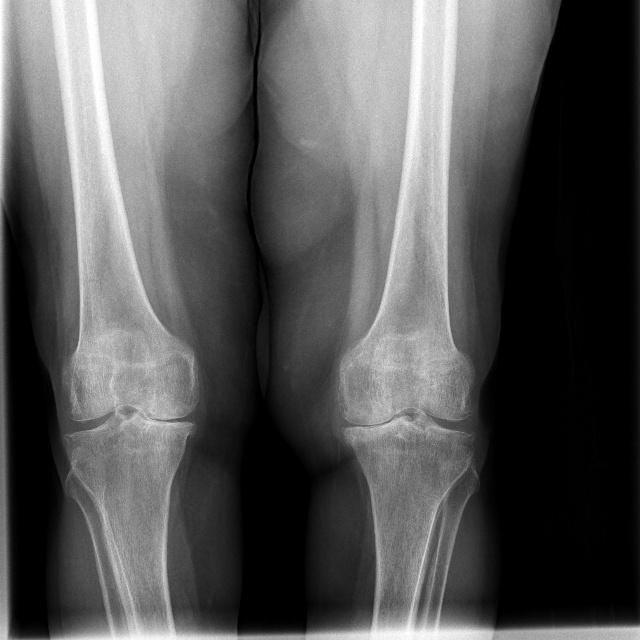Knee: (59, 354, 197, 479), (335, 359, 475, 477)
